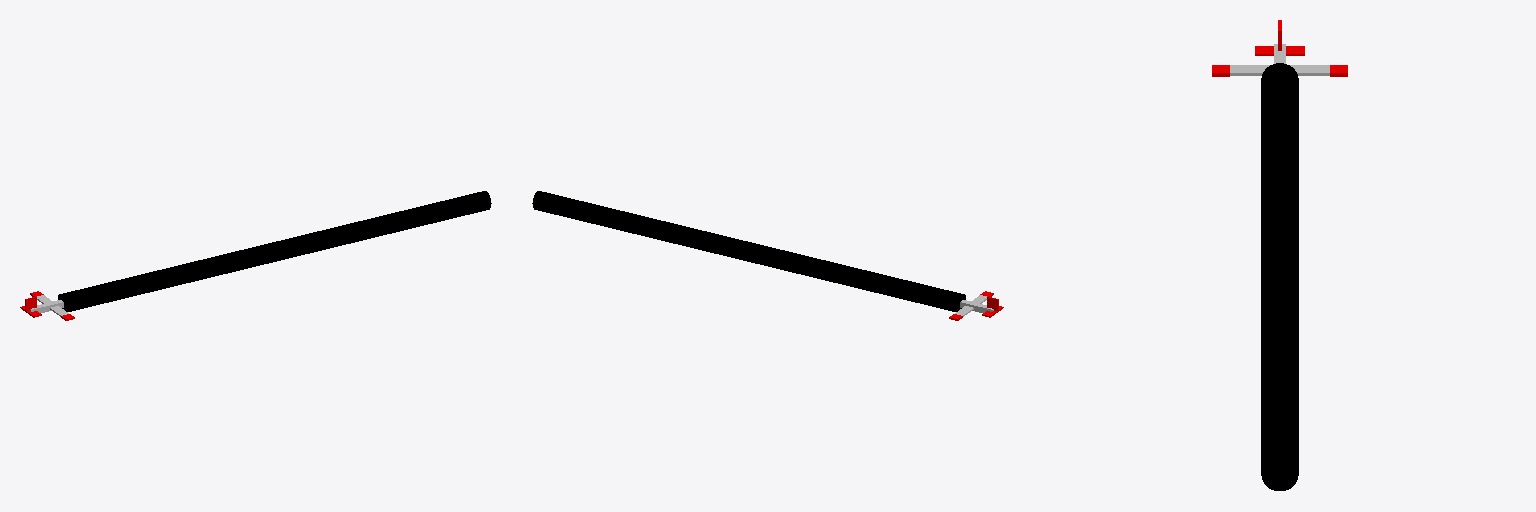
The robot description file, URDF, robot "acrowing":
<?xml version="1.0" ?>

<robot name="acrowing">

  <material name="clear">
    <color rgba="0.0 0.0 0.0 0.2"/>
  </material>
  <material name="red">
    <color rgba="1.0 0.0 0.0 1.0"/>
  </material>
  <material name="white">
    <color rgba="0.8 0.8 0.8 1.0"/>
  </material>
  <material name="black">
    <color rgba="0.2 0.2 0.2 1.0"/>
  </material>

  <link name="base_link">
    <inertial>
      <origin rpy="0 0 0" xyz="0 0 0"/>
      <mass value="0.3"/>
      <inertia ixx="0" ixy="0" ixz="0" iyy="0" iyz="0" izz="0"/>
    </inertial>
  </link>


  <link name="motor_link">
    <inertial>
      <origin rpy="0 0 0" xyz="0 0 0"/>
      <mass value="0"/>
      <inertia ixx="0" ixy="0" ixz="0" iyy="0" iyz="0" izz="0"/>
    </inertial>
  </link>
  <joint name="motor_joint" type="fixed">
    <origin rpy="0 0 0" xyz="0 0 0"/>
    <parent link="base_link"/>
    <child link="motor_link"/>
  </joint>


  <link name="horizontal_tail_link">
    <inertial>
      <origin rpy="0 0 0" xyz="0 0 0"/>
      <mass value="0.1"/>
      <inertia ixx="0" ixy="0" ixz="0" iyy="0" iyz="0" izz="0"/>
    </inertial>
    <collision>
      <origin rpy="0 0 0" xyz="0 0 0"/>
      <geometry>
        <box size="0.3 0.8 0.05"/>
      </geometry>
    </collision>
    <visual>
      <geometry>
        <box size="0.3 0.8 0.05"/>
      </geometry>
      <material name="red"/>
    </visual>
  </link>
  <joint name="horizontal_tail_joint" type="fixed">
    <origin rpy="0 0 0" xyz="-1.1 0 0"/>
    <parent link="base_link"/>
    <child link="horizontal_tail_link"/>
  </joint>


  <link name="vertical_tail_link">
    <inertial>
      <origin rpy="0 0 0" xyz="0 0 0"/>
      <mass value="0.05"/>
      <inertia ixx="0" ixy="0" ixz="0" iyy="0" iyz="0" izz="0"/>
    </inertial>
    <collision>
      <origin rpy="0 0 0" xyz="0 0 0"/>
      <geometry>
        <box size="0.4 0.05 0.5"/>
      </geometry>
    </collision>
    <visual>
      <geometry>
        <box size="0.4 0.05 0.4"/>
      </geometry>
      <material name="red"/>
    </visual>
  </link>
  <joint name="vertical_tail_joint" type="fixed">
    <origin rpy="0 0 0" xyz="-1.1 0 0.25"/>
    <parent link="base_link"/>
    <child link="vertical_tail_link"/>
  </joint>


  <link name="ail_left_link">
    <inertial>
      <origin rpy="0 0 0" xyz="0 0 0"/>
      <mass value="0.2"/>
      <inertia ixx="0" ixy="0" ixz="0" iyy="0" iyz="0" izz="0"/>
    </inertial>
    <collision>
      <origin rpy="0 0 0" xyz="0 0 0"/>
      <geometry>
        <box size="0.31 0.3 0.06"/>
      </geometry>
    </collision>
    <visual>
      <geometry>
        <box size="0.31 0.3 0.06"/>
      </geometry>
      <material name="red"/>
    </visual>
  </link>
  <joint name="ail_left_joint" type="fixed">
    <origin rpy="0 0 0" xyz="-0.35 0.95 0"/>
    <parent link="base_link"/>
    <child link="ail_left_link"/>
  </joint>


  <link name="ail_right_link">
    <inertial>
      <origin rpy="0 0 0" xyz="0 0 0"/>
      <mass value="0.2"/>
      <inertia ixx="0" ixy="0" ixz="0" iyy="0" iyz="0" izz="0"/>
    </inertial>
    <collision>
      <origin rpy="0 0 0" xyz="0 0 0"/>
      <geometry>
        <box size="0.31 0.3 0.06"/>
      </geometry>
    </collision>
    <visual>
      <geometry>
        <box size="0.31 0.3 0.06"/>
      </geometry>
      <material name="red"/>
    </visual>
  </link>
  <joint name="ail_right_joint" type="fixed">
    <origin rpy="0 0 0" xyz="-0.35 -0.95  0"/>
    <parent link="base_link"/>
    <child link="ail_right_link"/>
  </joint>


  <link name="main_wing_link">
    <inertial>
      <origin rpy="0 0 0" xyz="0 0 0"/>
      <mass value="0.5"/>
      <inertia ixx="0" ixy="0" ixz="0" iyy="0" iyz="0" izz="0"/>
    </inertial>
    <collision>
      <origin rpy="0 0 0" xyz="0 0 0"/>
      <geometry>
        <box size="0.3 1.8 0.05"/>
      </geometry>
    </collision>
    <visual>
      <geometry>
        <box size="0.3 1.8 0.05"/>
      </geometry>
      <material name="white"/>
    </visual>
  </link>
  <joint name="main_wing_joint" type="fixed">
    <origin rpy="0 0 0" xyz="-0.35 0 0"/>
    <parent link="base_link"/>
    <child link="main_wing_link"/>
  </joint>


  <link name="fuselage_link">
    <inertial>
      <origin rpy="0 0 0" xyz="0 0 0"/>
      <mass value="1"/>
      <inertia ixx="0" ixy="0" ixz="0" iyy="0" iyz="0" izz="0"/>
    </inertial>
    <collision>
      <origin rpy="0 0 0" xyz="0 0 0"/>
      <geometry>
        <box size="1.4 0.2 0.2"/>
      </geometry>
    </collision>
    <visual>
      <geometry>
        <box size="1.4 0.2 0.2"/>
      </geometry>
      <material name="white"/>
    </visual>
  </link>
  <joint name="fuselage_joint" type="fixed">
    <origin rpy="0 0 0" xyz="-0.45 0 0"/>
    <parent link="base_link"/>
    <child link="fuselage_link"/>
  </joint>

  <link name="gunsight_link">
    <inertial>
      <origin rpy="0 0 0" xyz="0 0 0"/>
      <mass value="0"/>
      <inertia ixx="0" ixy="0" ixz="0" iyy="0" iyz="0" izz="0"/>
    </inertial>
    <visual>
      <geometry>
        <cylinder radius="0.3" length="15.0"/>
      </geometry>
      <material name="clear"/>
    </visual>
  </link>
  <joint name="gunsight_joint" type="fixed">
    <origin rpy="0 1.571 0" xyz="7.5 0 0"/>
    <parent link="base_link"/>
    <child link="gunsight_link"/>
  </joint>
</robot>

--- Facts derived from the render (not from the file) ---
The picture shows the robot from 3 angles, left to right: view 1: azimuth 30°, elevation 25°; view 2: azimuth 150°, elevation 25°; view 3: azimuth 270°, elevation 25°; orthographic projection.
Model acrowing with 9 links and 8 joints (8 fixed), rooted at base_link, posed every joint at zero.
Links seen in each view (by area): view 1: gunsight_link; view 2: gunsight_link; view 3: gunsight_link, main_wing_link.
Boxes of the visible links, <box> form: gunsight_link: <box>58,191,491,311</box>; gunsight_link: <box>532,191,965,311</box>; gunsight_link: <box>1261,63,1298,490</box>; main_wing_link: <box>1230,65,1329,75</box>.
Bounding box of the posed robot: 16.3 × 2.2 × 0.7515 m (x, y, z).
Geometry: primitives only (box / cylinder / sphere), no mesh files.
